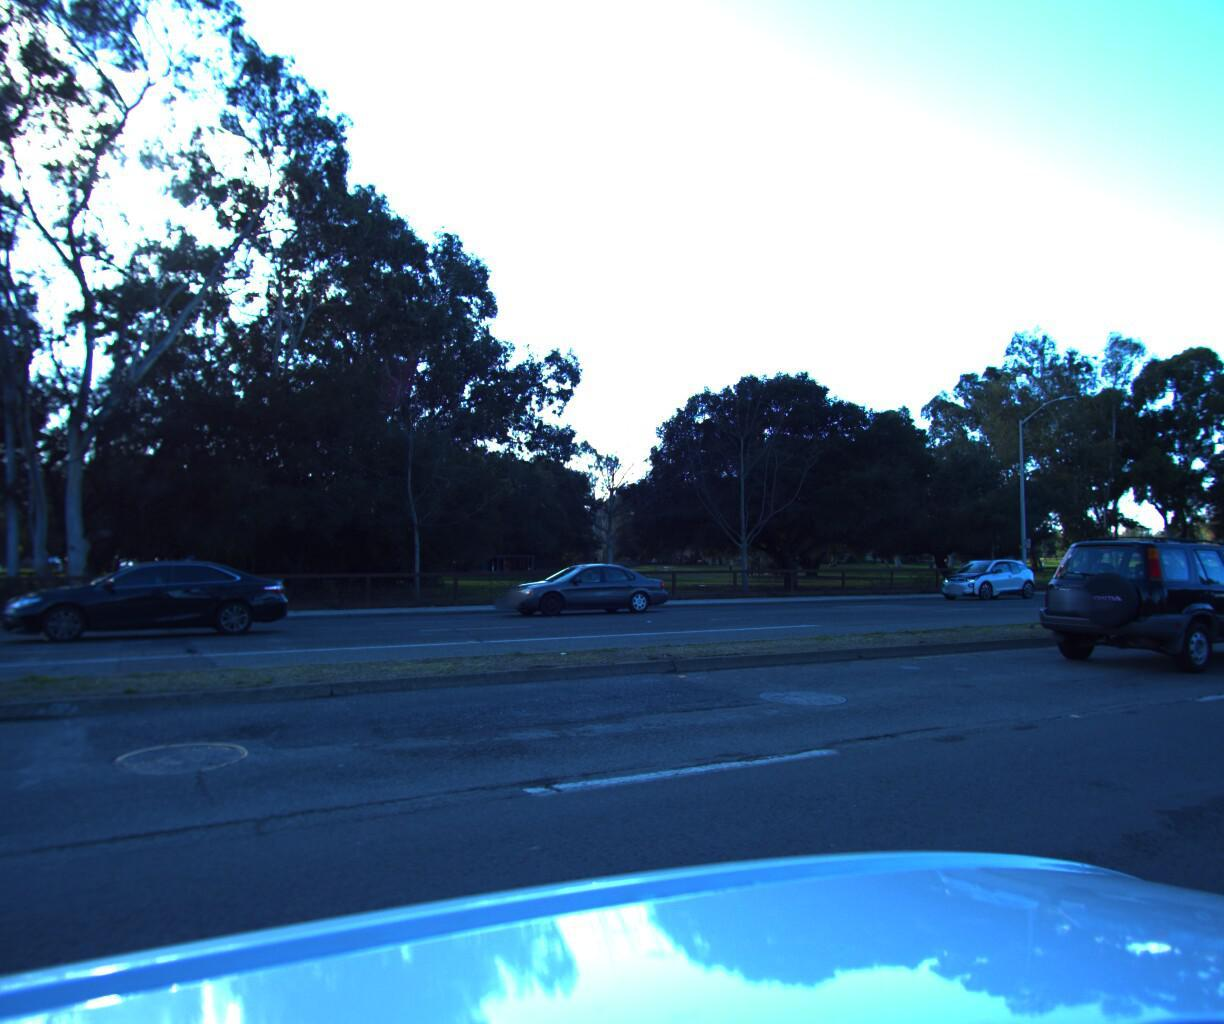car: (1000, 507, 1224, 674), (0, 551, 290, 644), (484, 555, 670, 615), (930, 550, 1039, 594), (1209, 558, 1224, 589)
